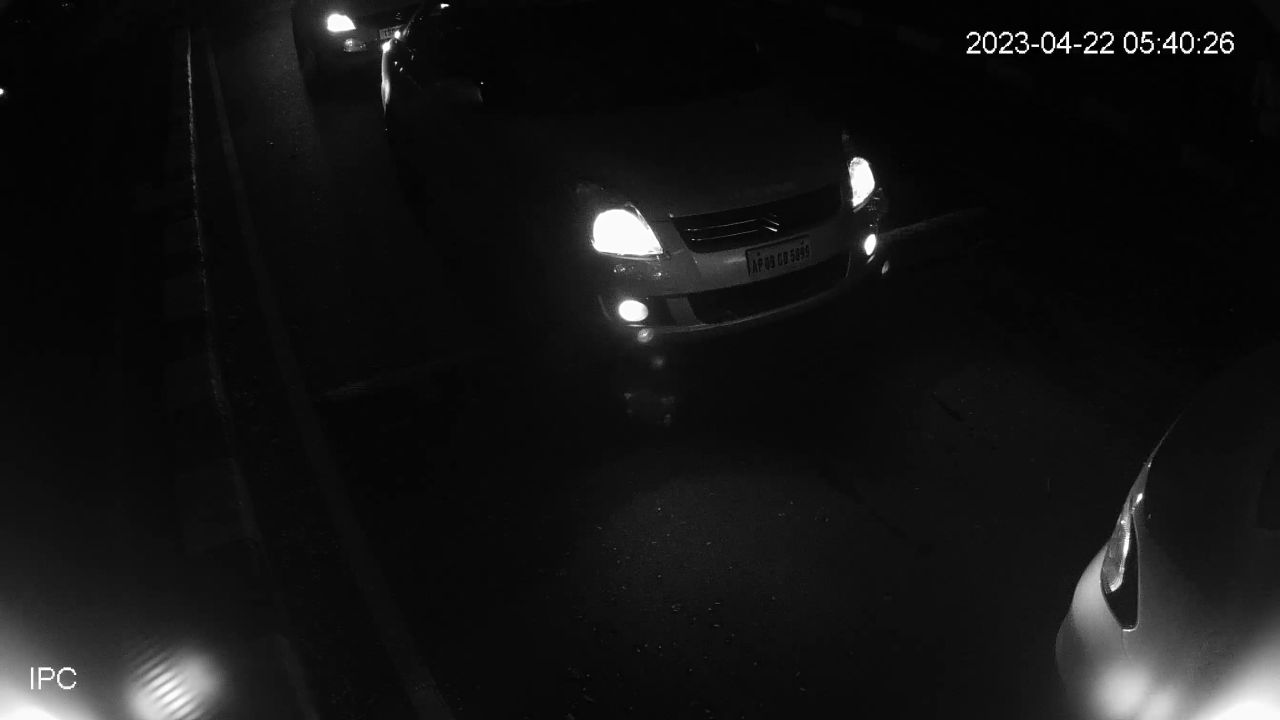license_plate: (739, 233, 814, 288)
